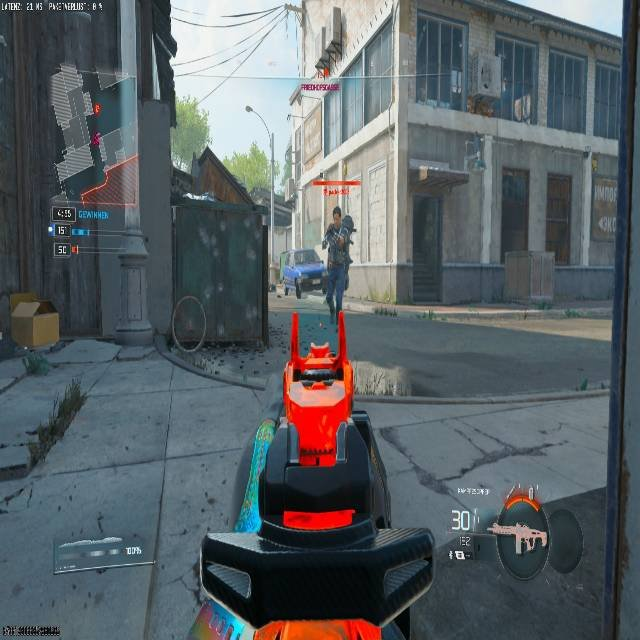head: (331, 203, 350, 224), (332, 206, 342, 221)
player: (322, 206, 356, 316)
